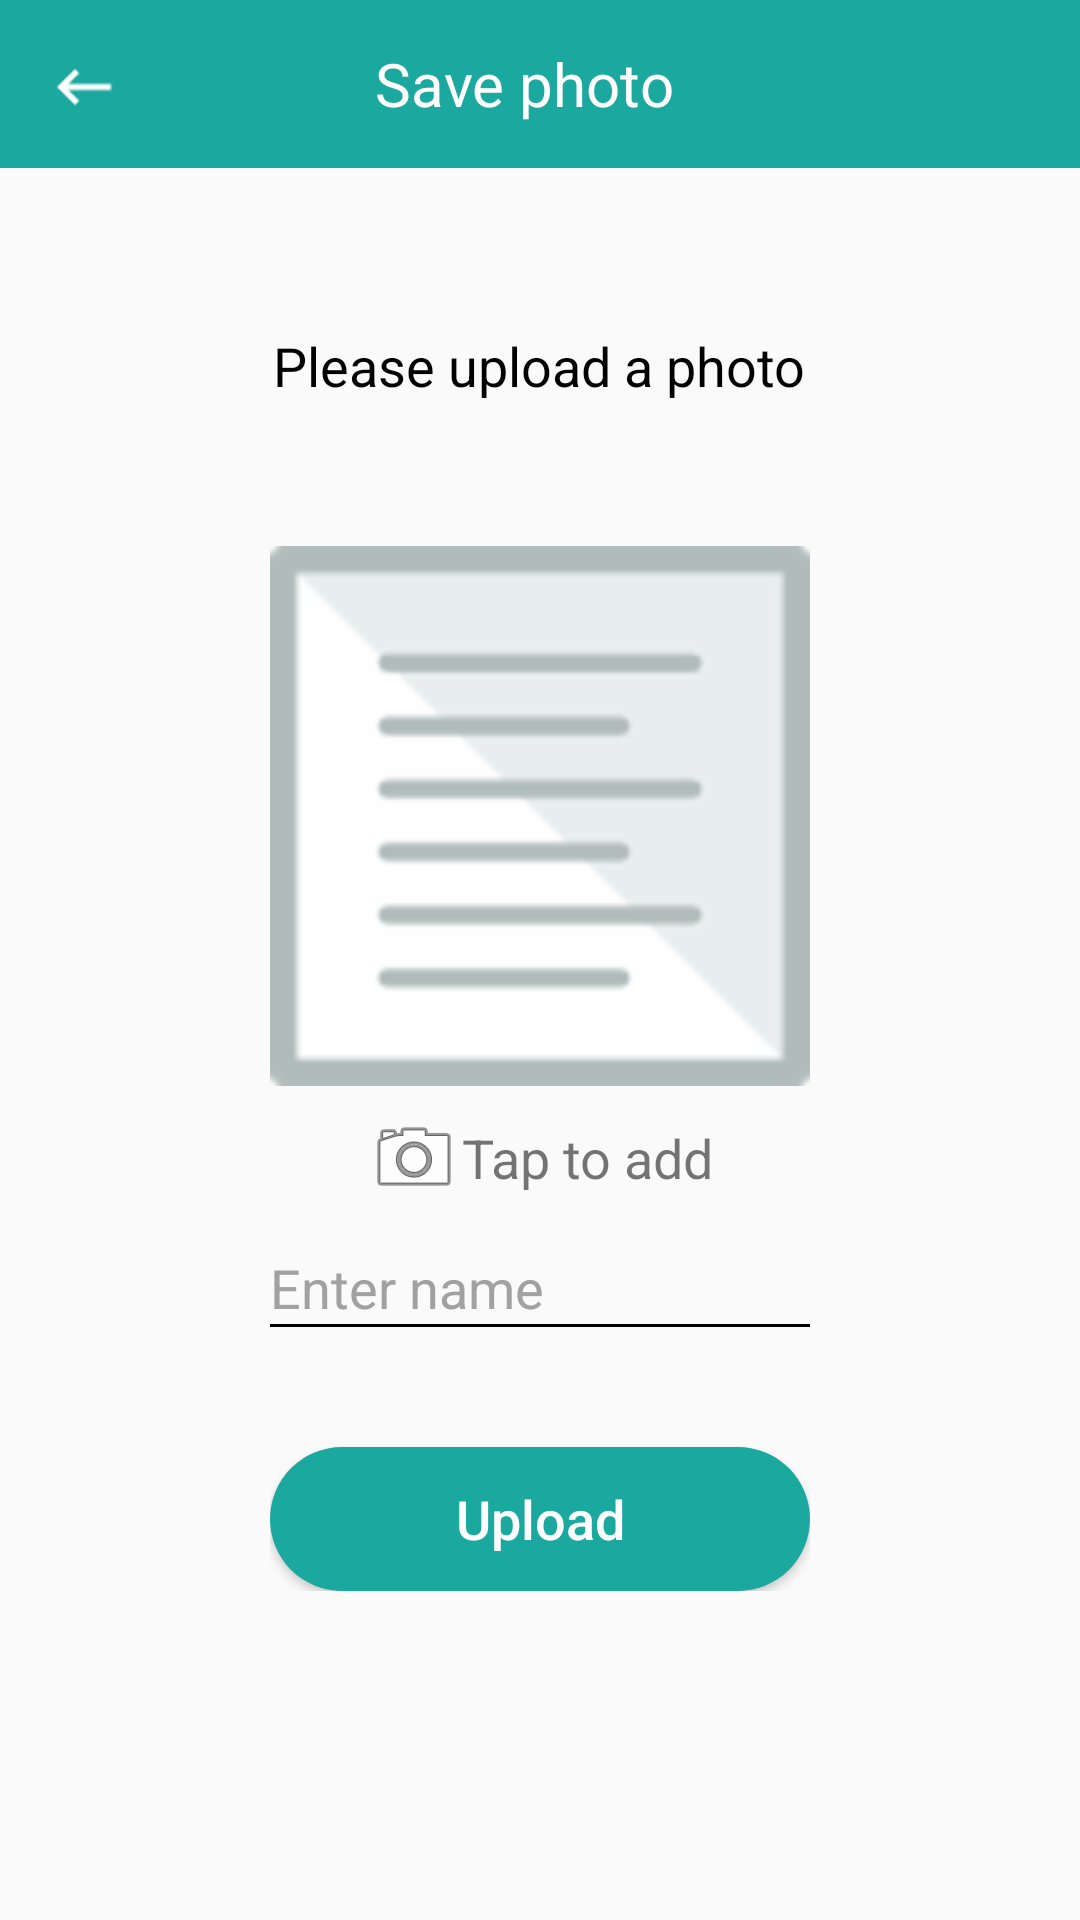

Where to tap for icons on this 1080*1920 app screen, as [x,y]:
keyboard backspace: [84,87]
